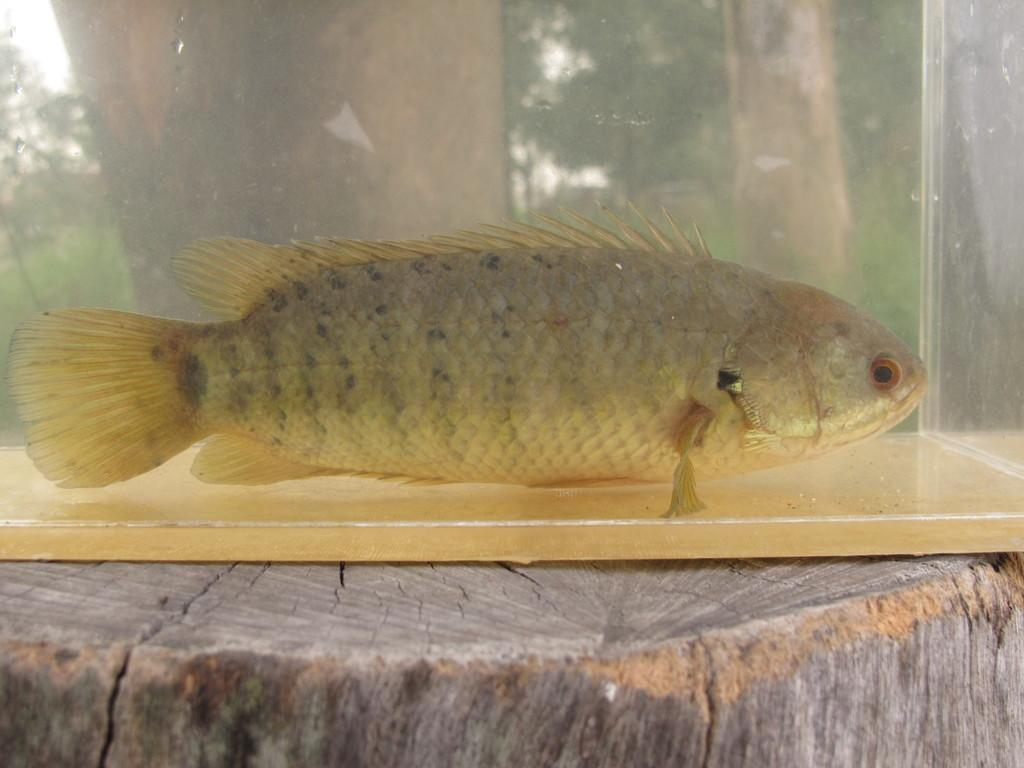Climbing Perch: (17, 200, 926, 516)
